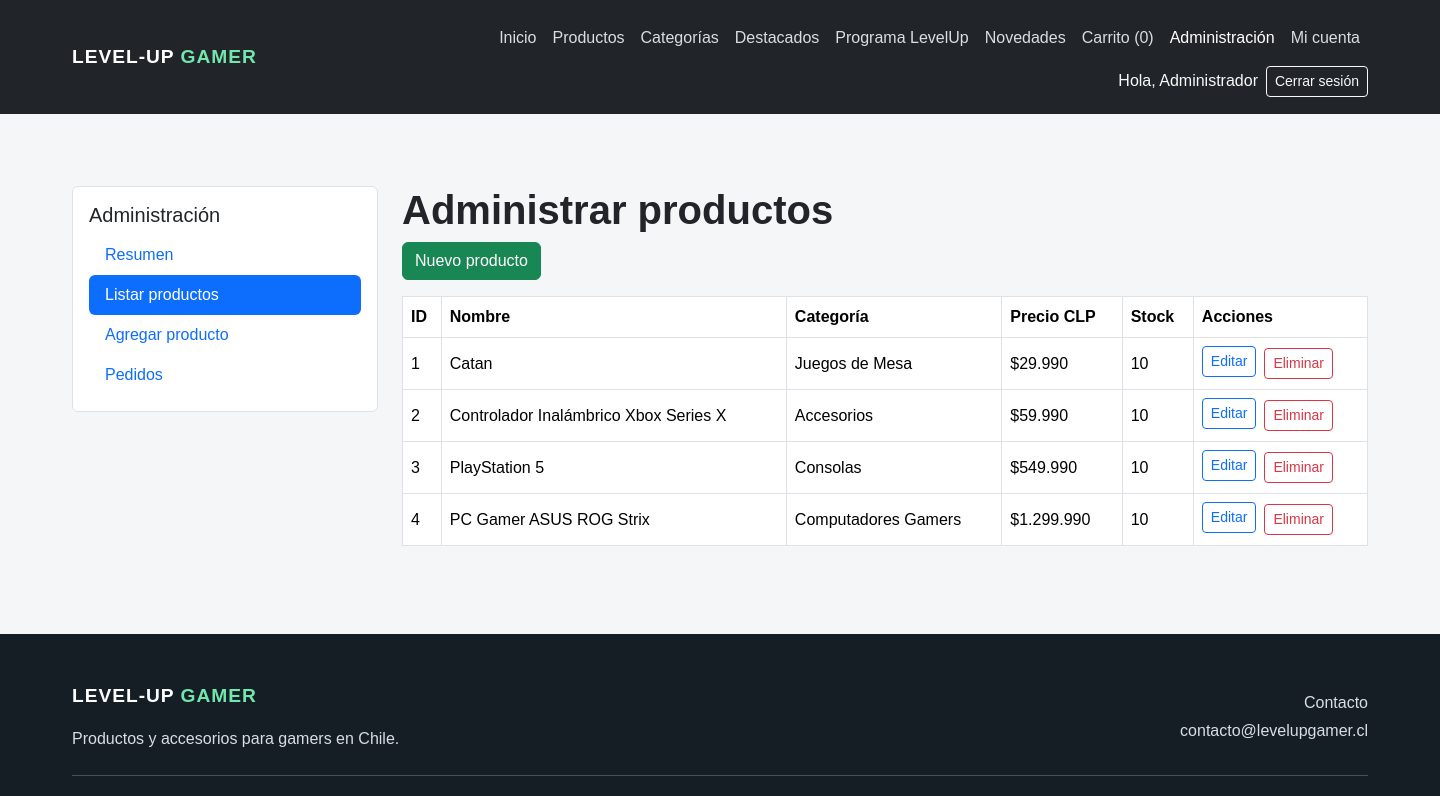
Test: fallo de la API durante eliminación conserva catálogo y muestra error
Click the button with aria-label "Eliminar Catan" at x=1299, y=364, box top-left (1264, 348), bottom-right (1333, 379)
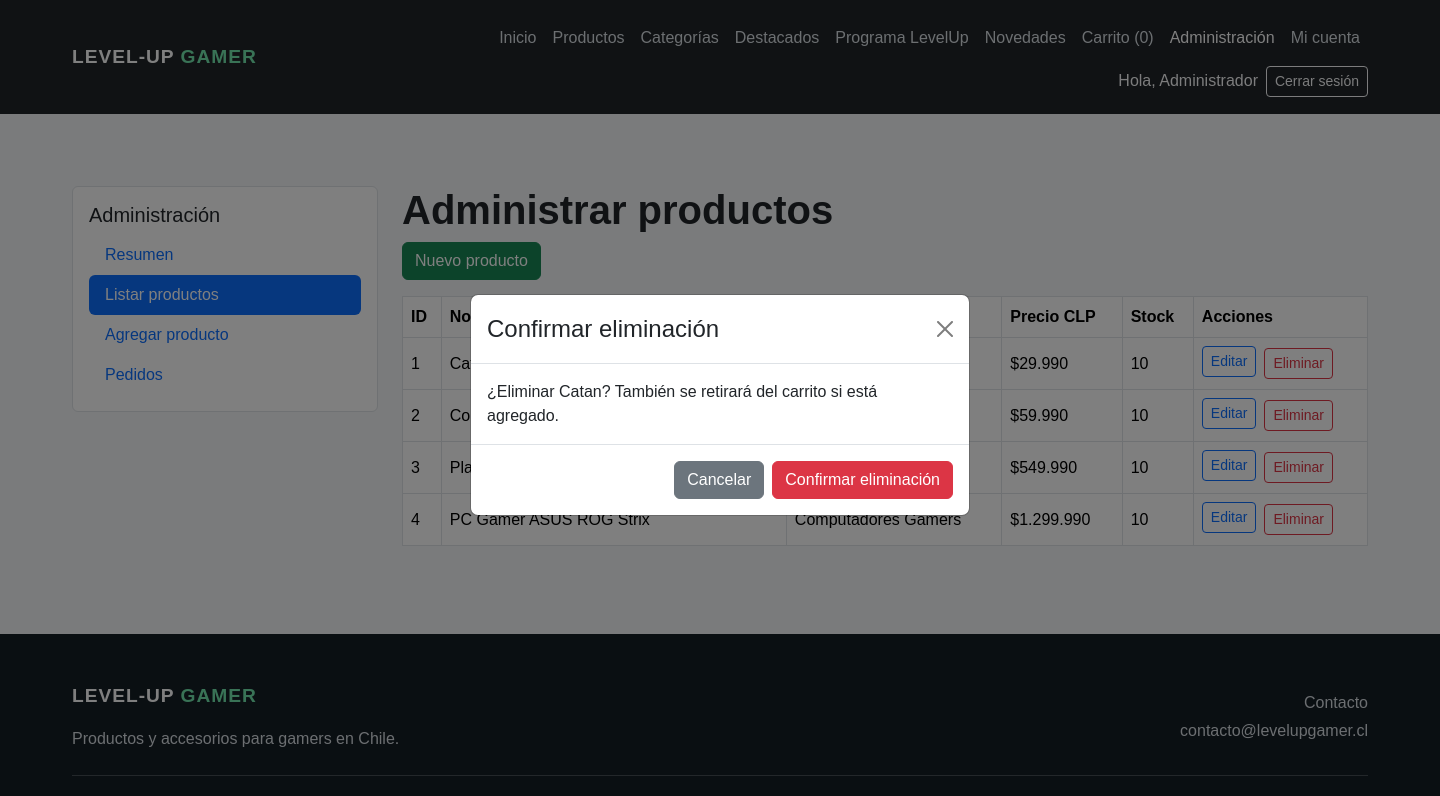
Click the button "Confirmar eliminación" at x=863, y=480, box top-left (772, 461), bottom-right (953, 499)
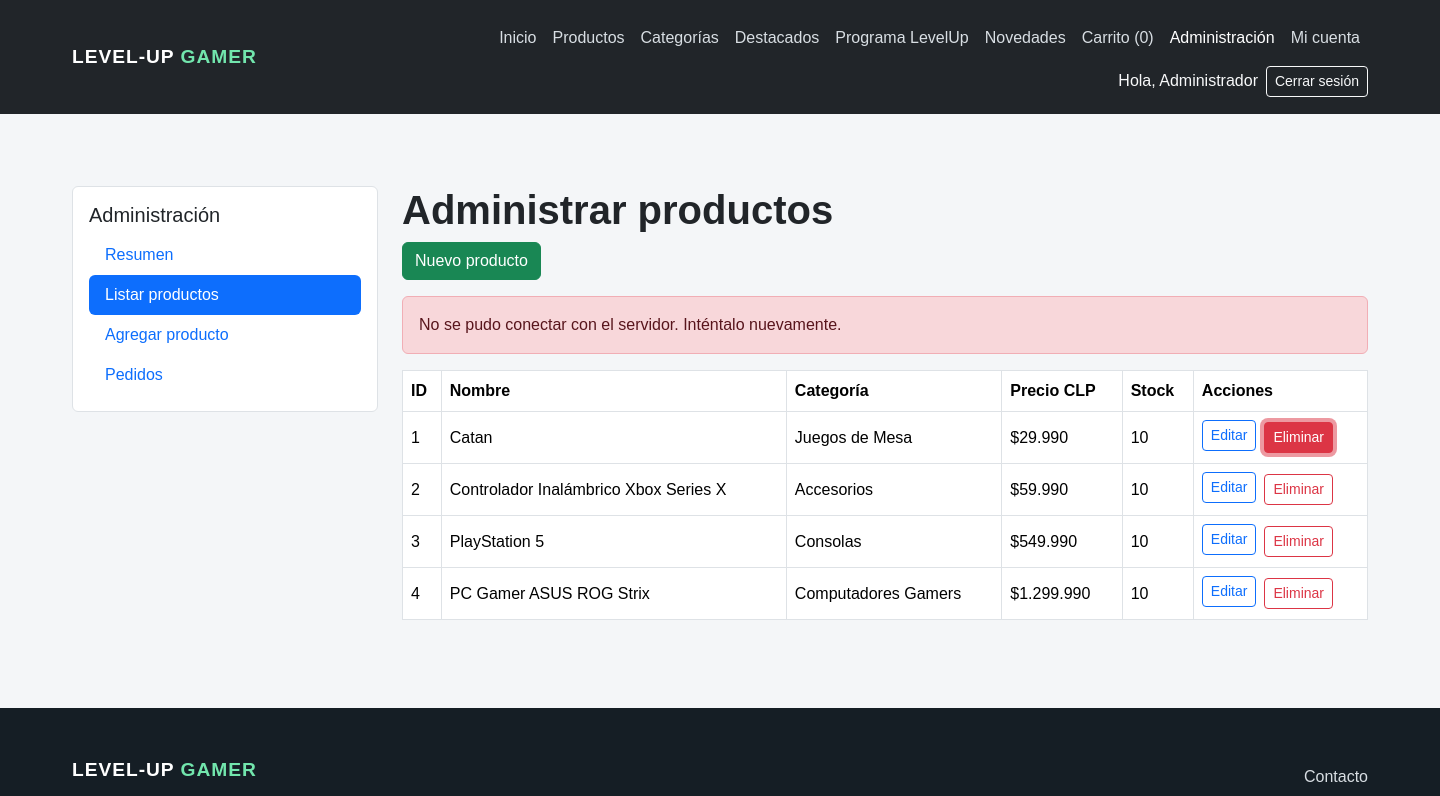
Expected: the button with aria-label "Eliminar Catan" is shown, top-left (1264, 422), bottom-right (1333, 453)
Expected: the text "No se pudo conectar con el servidor. Inténtalo nuevamente." is shown, top-left (402, 296), bottom-right (1368, 354)
